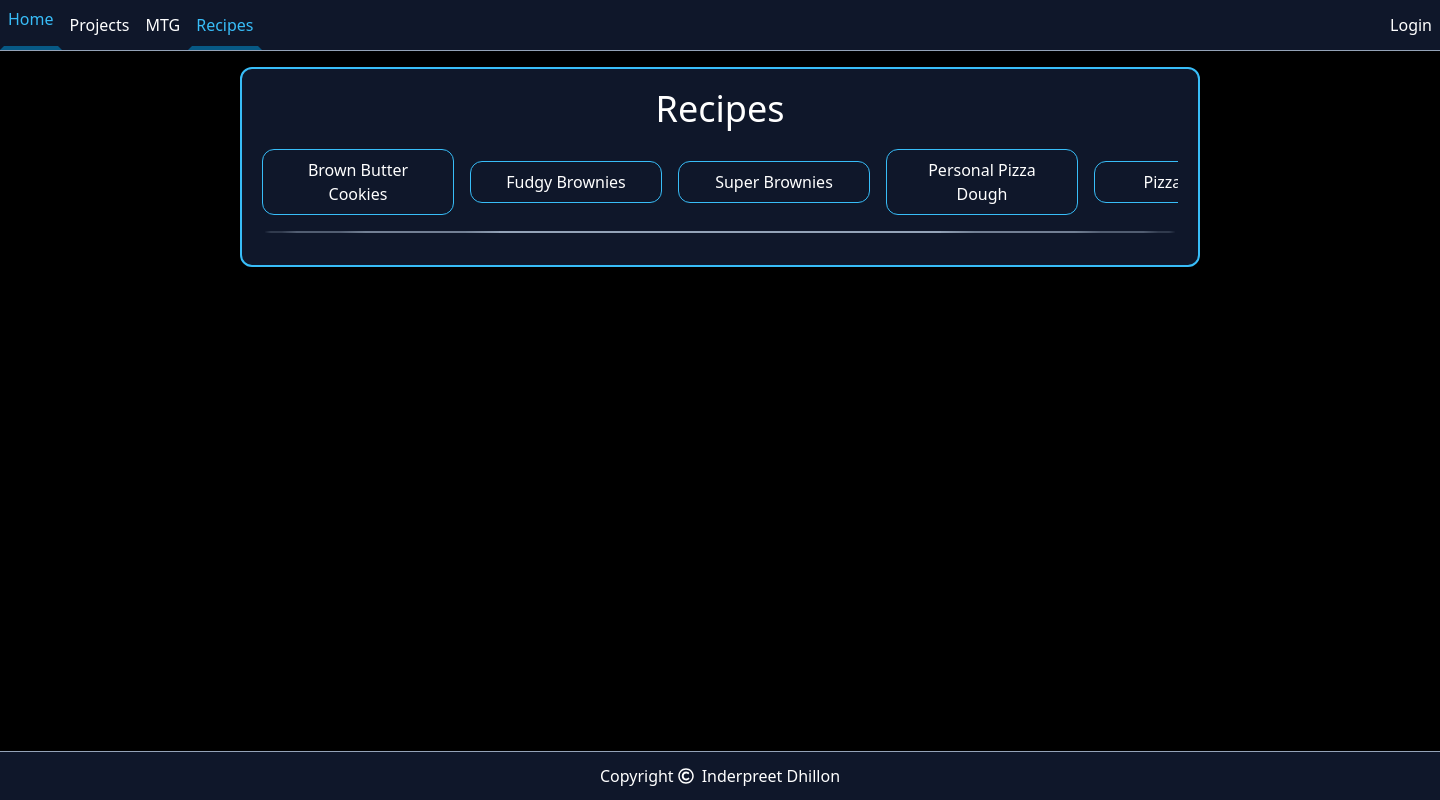
Test: Recipes › should switch between recipes
Click the button "Brown Butter Cookies".
click(358, 182)  # box [262,149,454,215]
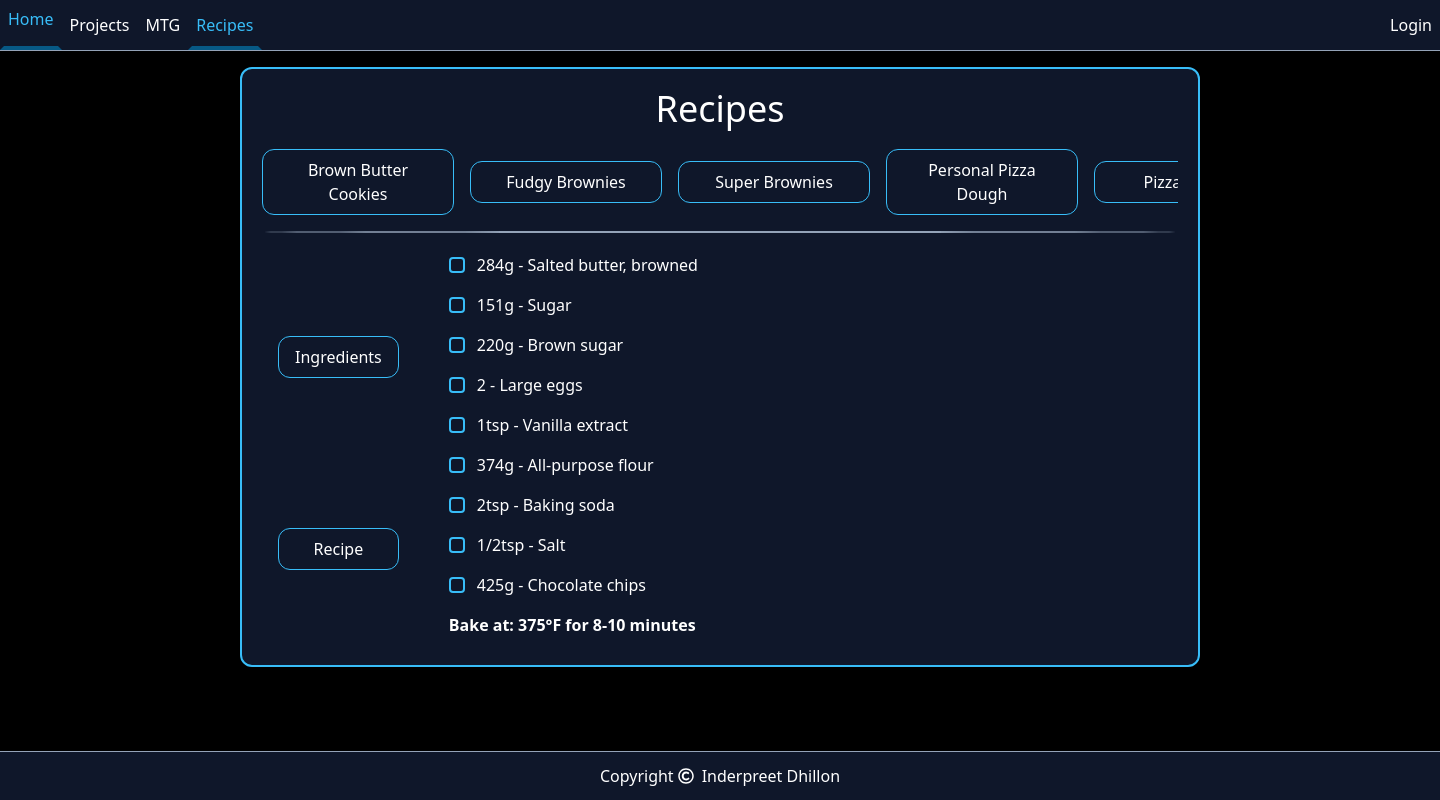
Now the button "Ingredients" is shown, box [278,336,399,378]
Now the button "Recipe" is shown, box [278,528,399,570]
Click the button "Personal Pizza Dough".
click(982, 182)  # box [886,149,1078,215]
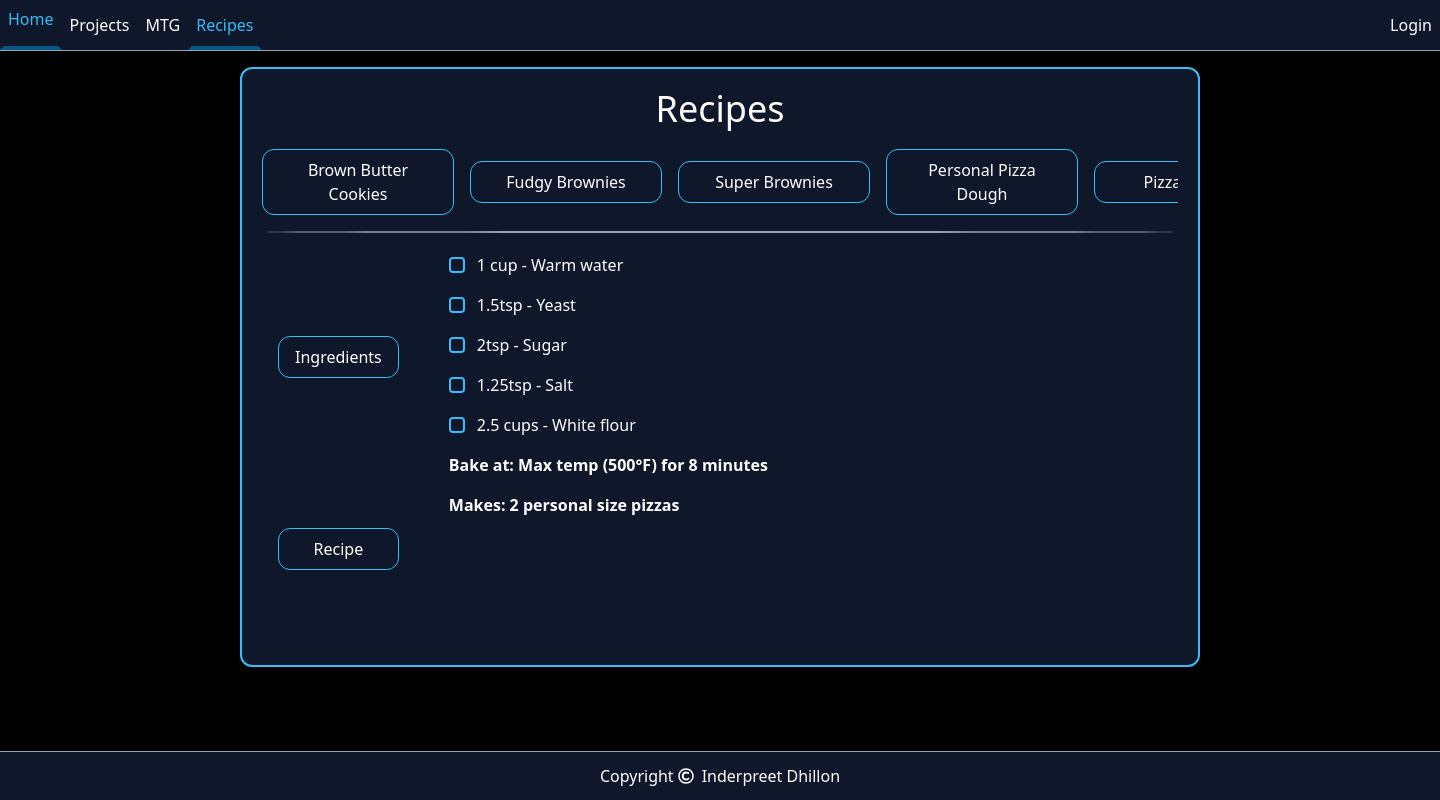
Now the text "Makes: 2 personal size pizzas" is shown, box [449,494,679,516]
